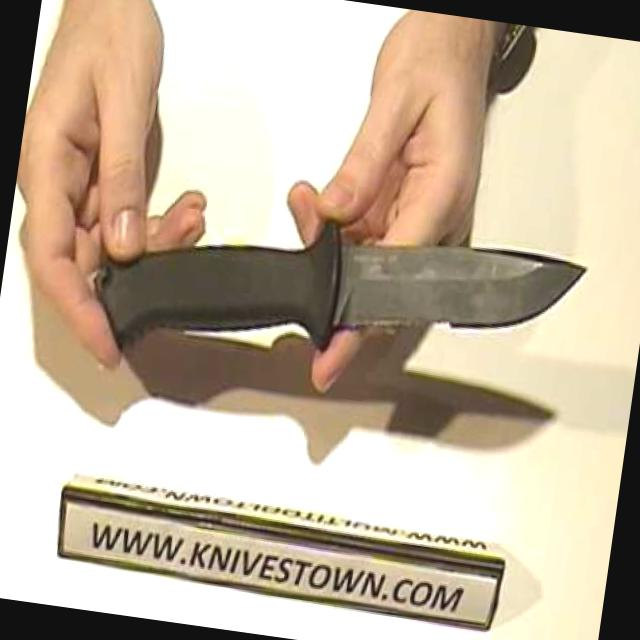knife: (257, 192, 618, 396)
